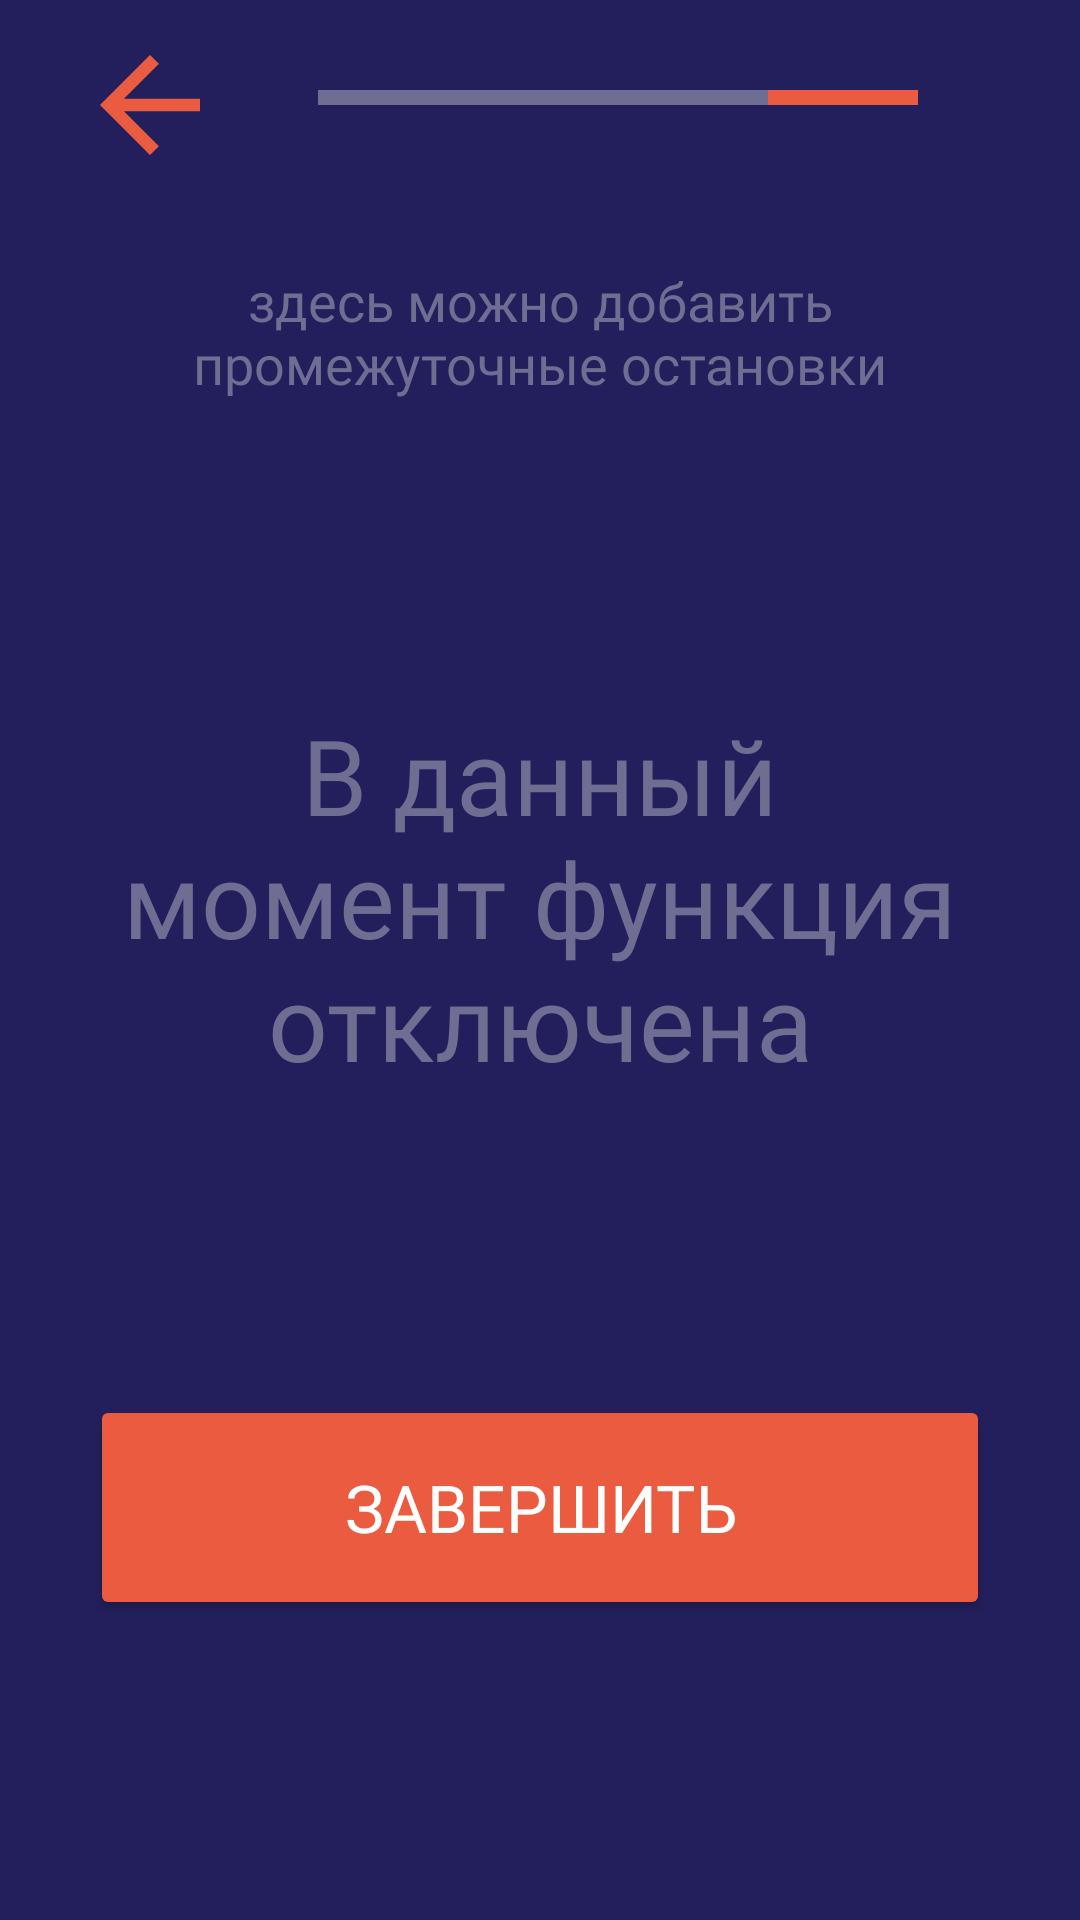

Icon click points for this 1080 x 1920 phone screenshot, format [x,y]:
back: [150,105]
